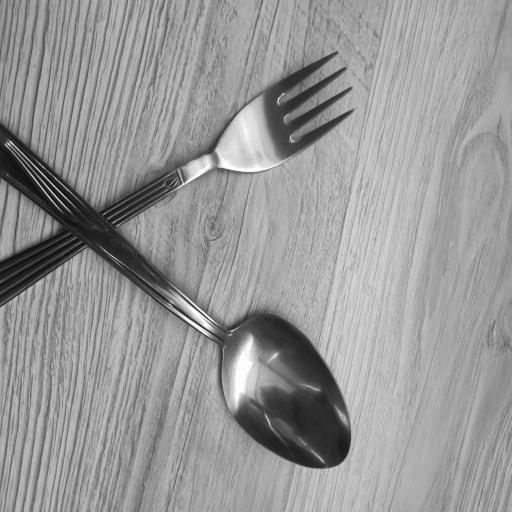fork: (0, 47, 352, 307)
spoon: (0, 124, 354, 468)
